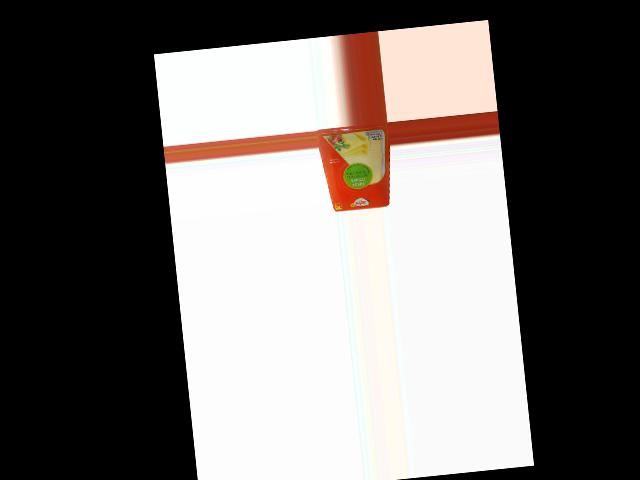cheese: (316, 122, 394, 212)
